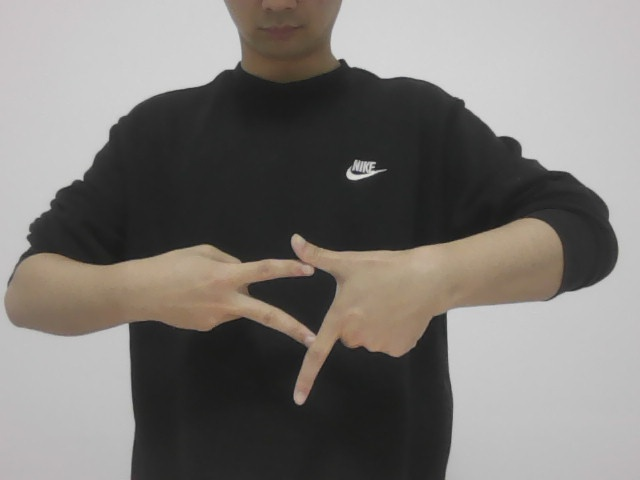introduce: (139, 227, 442, 411)
